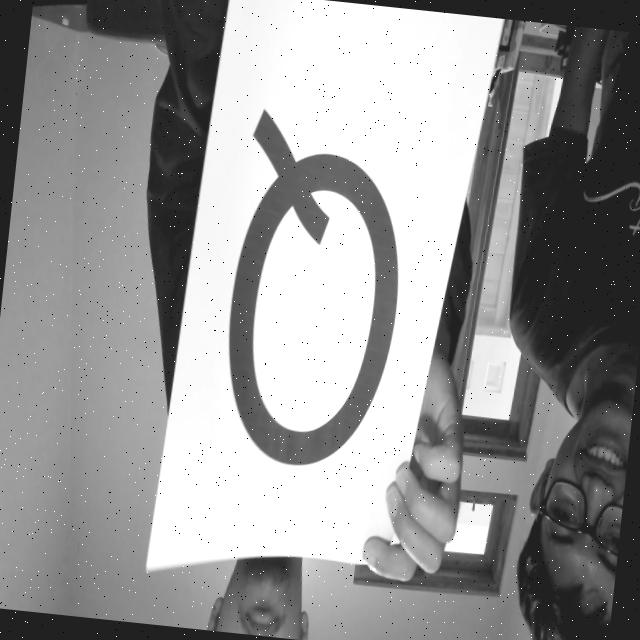q: (199, 87, 433, 490)
